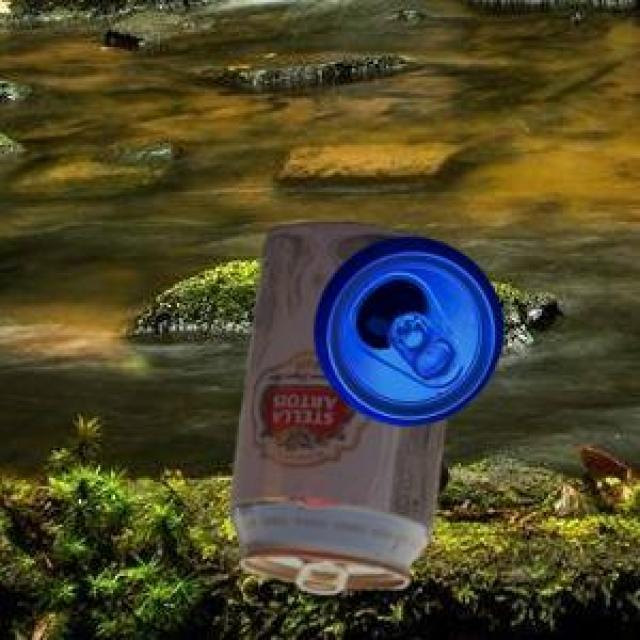Can: (227, 219, 443, 592), (313, 234, 500, 421), (434, 455, 445, 494)
